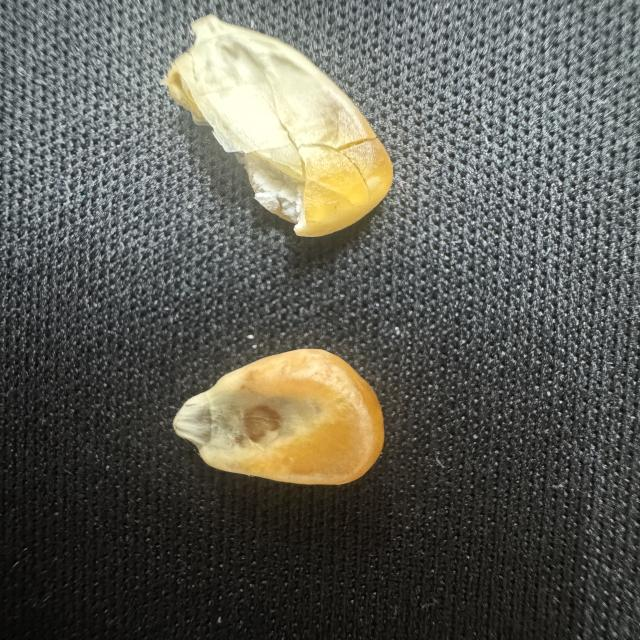Bad-Seed: (153, 14, 402, 257), (164, 346, 396, 492)
